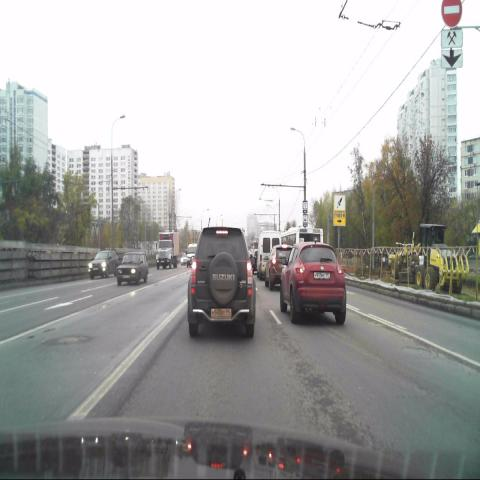8_5_2: (440, 29, 463, 47)
